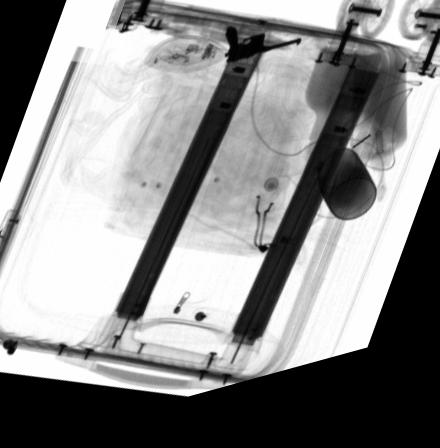Gun: (224, 38, 301, 75)
